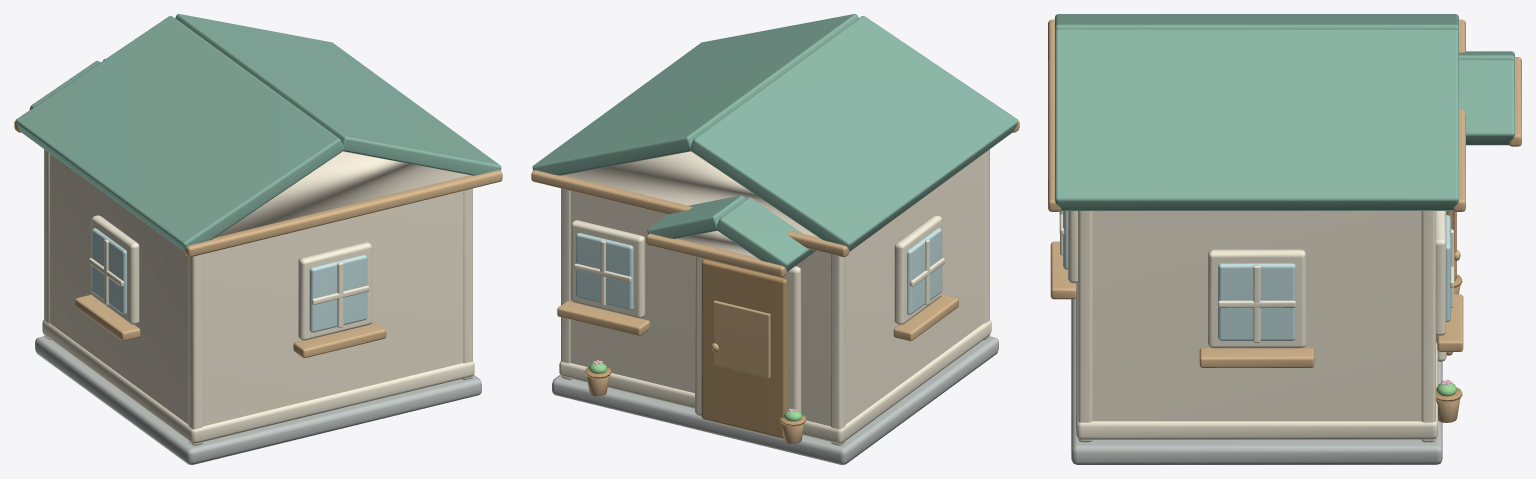
File: cottage_0.glb
The picture shows the model from 3 angles, left to right: view 1: azimuth 30°, elevation 25°; view 2: azimuth 150°, elevation 25°; view 3: azimuth 270°, elevation 25°; orthographic projection. The views are drawn at different scales.
Bounding box in the file's own units: 3.22 × 2.87 × 3.47.
